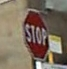stop: (20, 5, 50, 62)
